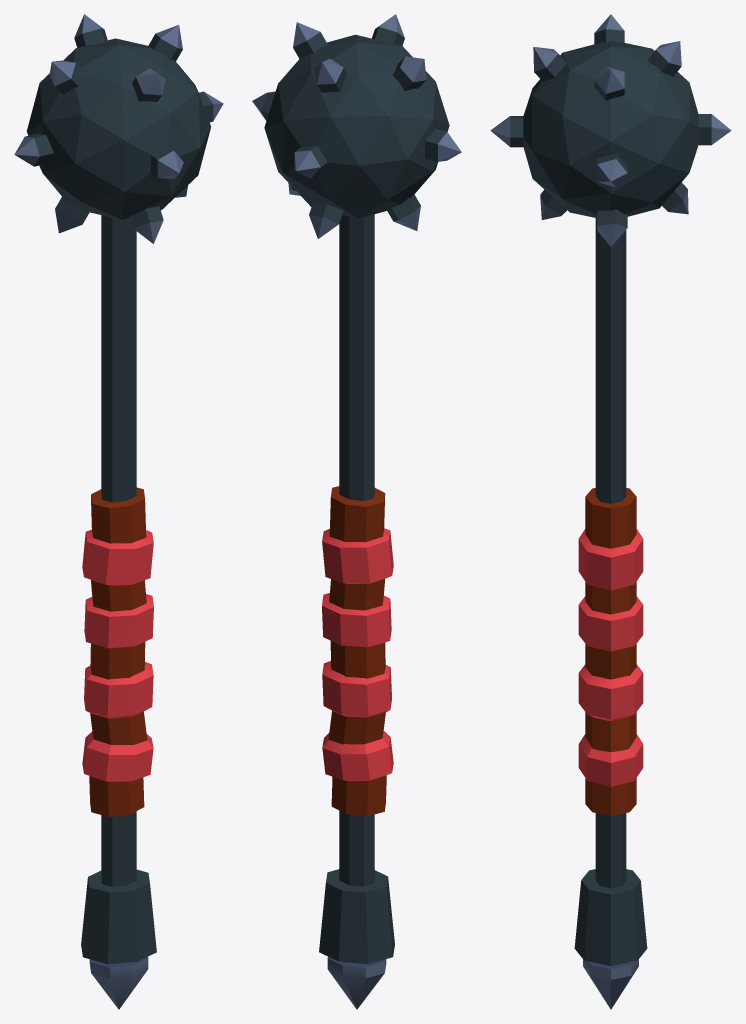
The model's file is Mace_04.fbx.
3 renders of one model, left to right at view 1: azimuth 30°, elevation 25°; view 2: azimuth 150°, elevation 25°; view 3: azimuth 270°, elevation 25°, orthographic.
Parts seen in each view (by area): view 1: Mace 04; view 2: Mace 04; view 3: Mace 04.
Boxes of the visible parts, x1,y1,x2,y2 form: Mace 04: (14, 14, 223, 1009); Mace 04: (252, 14, 461, 1009); Mace 04: (490, 14, 731, 1009).
Size of the model in its own units: 26.16 by 116 by 26.16.
